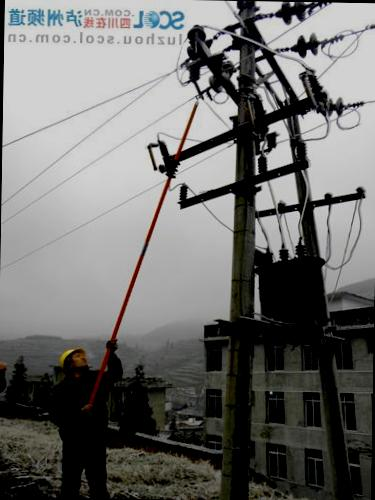person: (48, 342, 121, 498)
